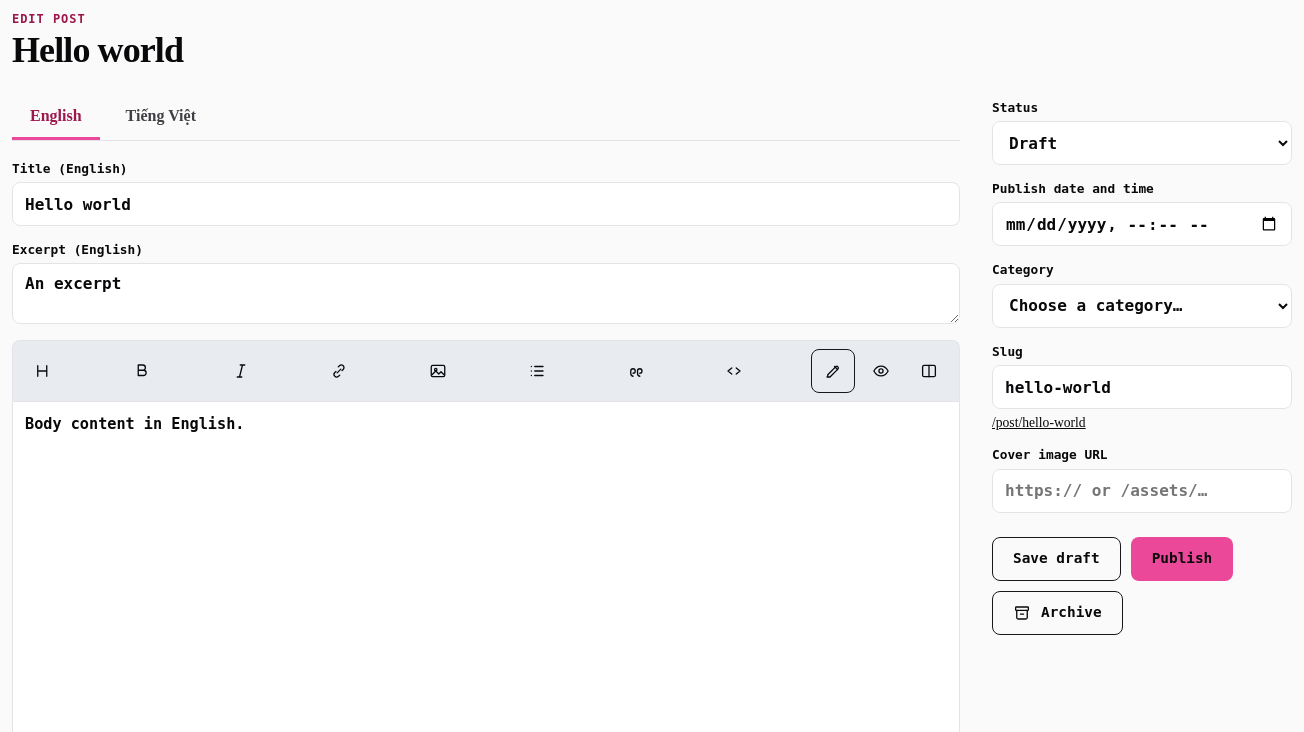
it: conflict handling › keeps the edited text and offers an explicit reload when the server reports a conflict
Replace the text in the field labelled "Title (English)" with "Hello world, edited locally" at (486, 204), box [12,182,960,226]
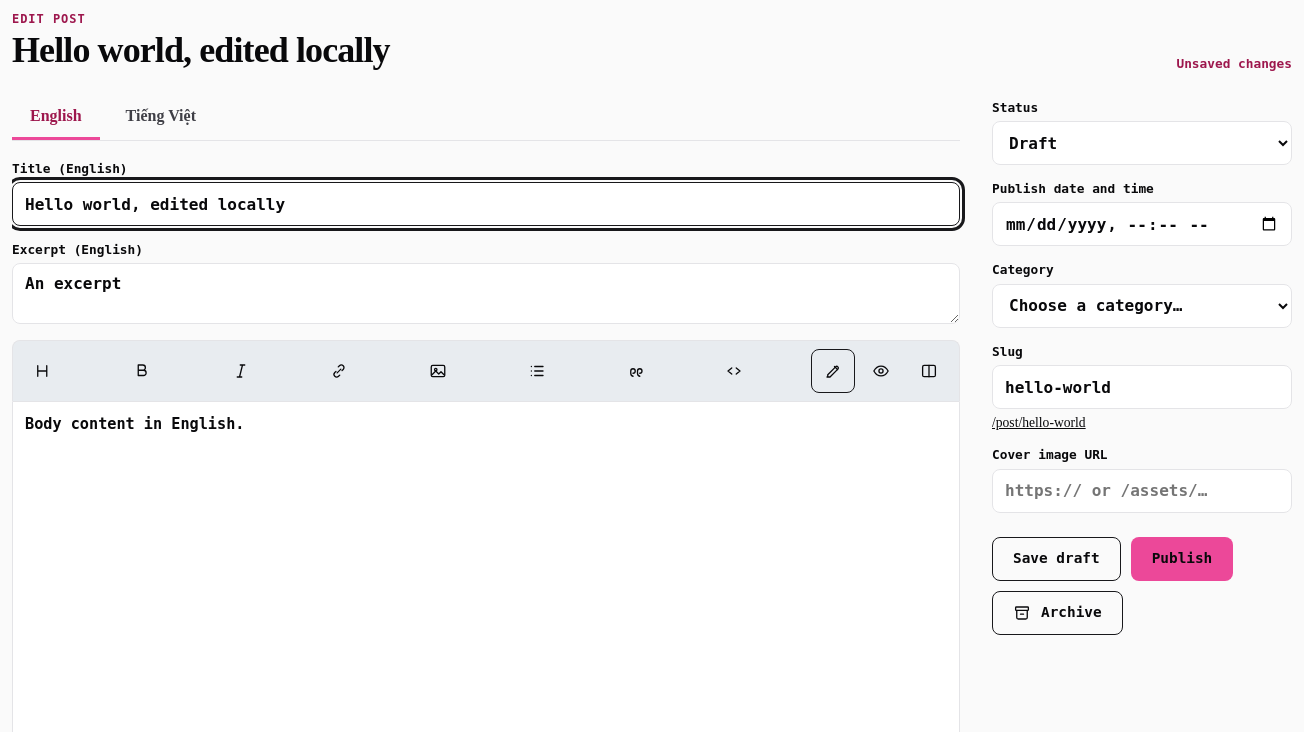
Click the button "Save draft".
click(1056, 559)  # box [992,537,1121,581]
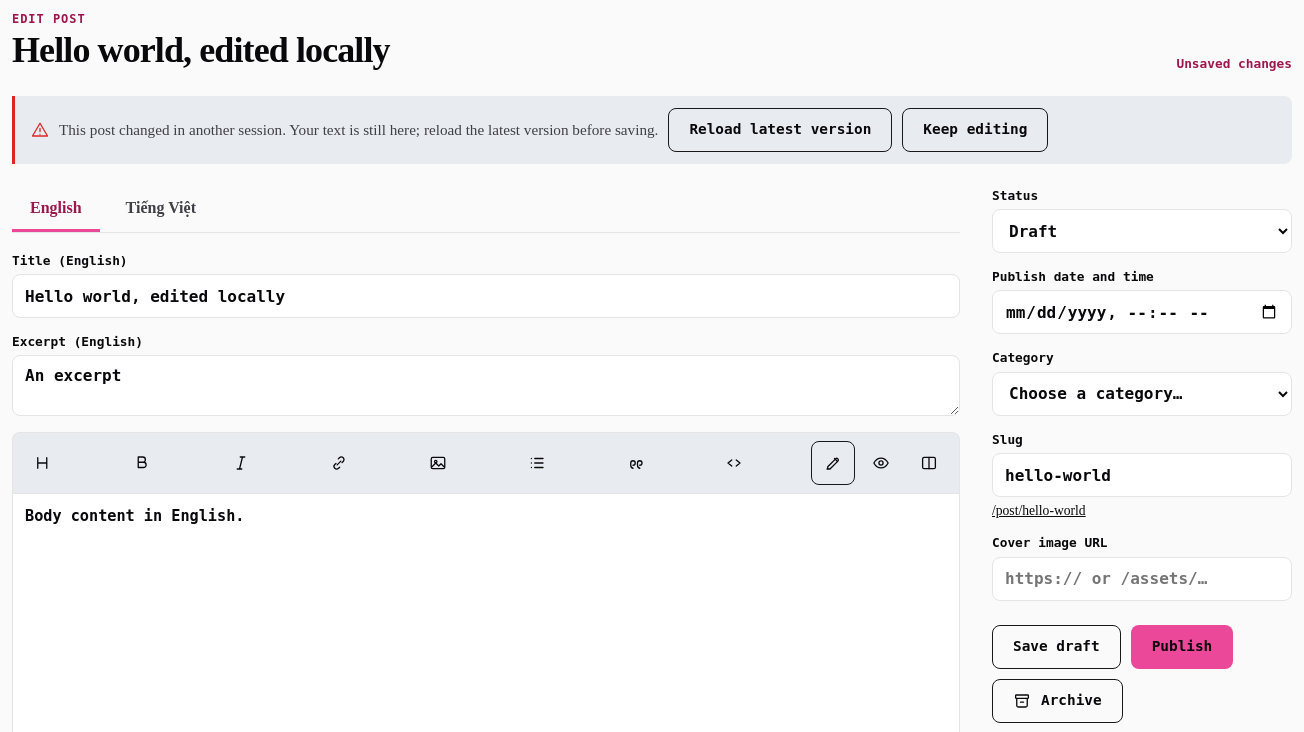
Expected: the message shows "changed in another session", [59,121,658,138]
Expected: the button "Reload latest version" is shown, [668,108,892,152]
